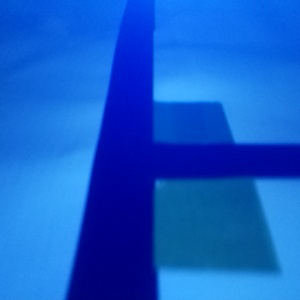bottom_right: (96, 143, 279, 272)
top_right: (105, 100, 233, 177)
